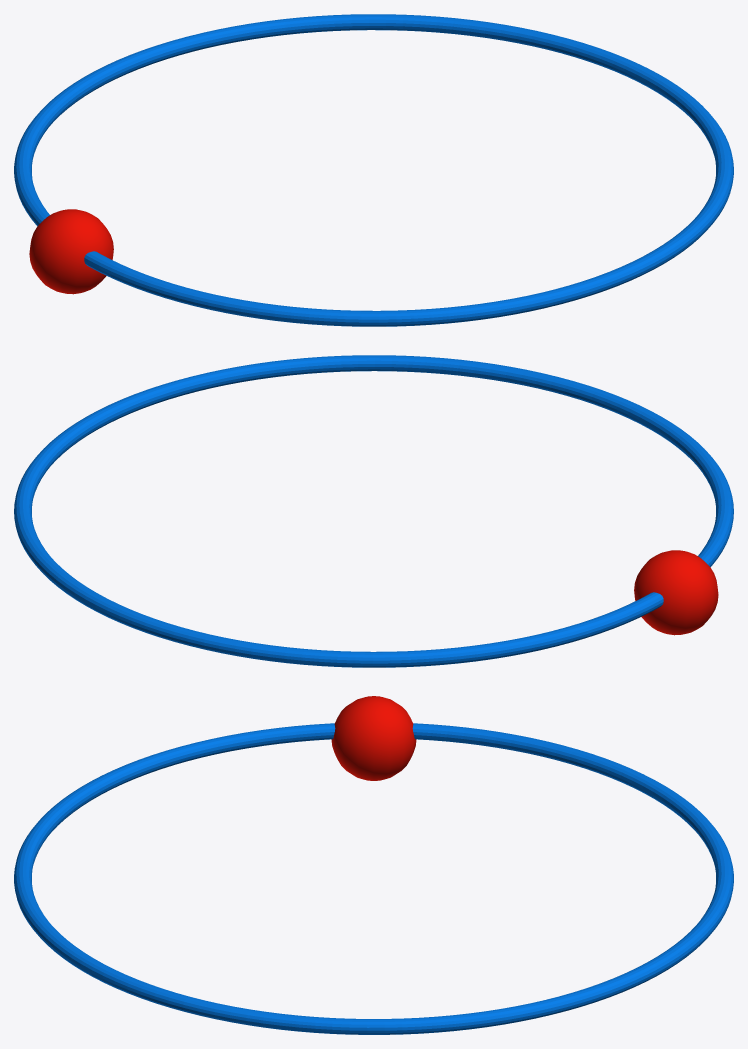
Rendered from pole1.fbx.
The picture shows the model from 3 angles, top to bottom: view 1: azimuth 30°, elevation 25°; view 2: azimuth 150°, elevation 25°; view 3: azimuth 270°, elevation 25°; orthographic projection.
Parts seen in each view (by area): view 1: pole1; view 2: pole1; view 3: pole1.
Part boxes in pixels (bbox=[...]): pole1: bbox=[14, 14, 733, 326]; pole1: bbox=[14, 355, 733, 667]; pole1: bbox=[14, 696, 733, 1034].
Size of the model in its own units: 300 by 34.02 by 287.
